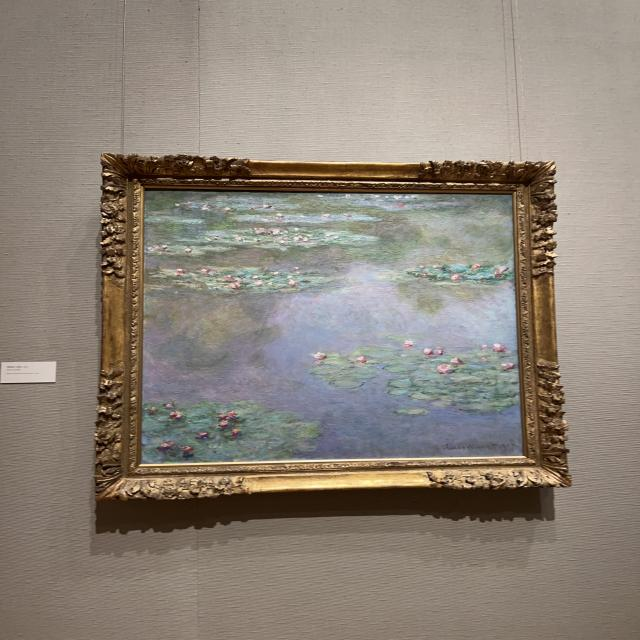lilies: (144, 193, 521, 461)
